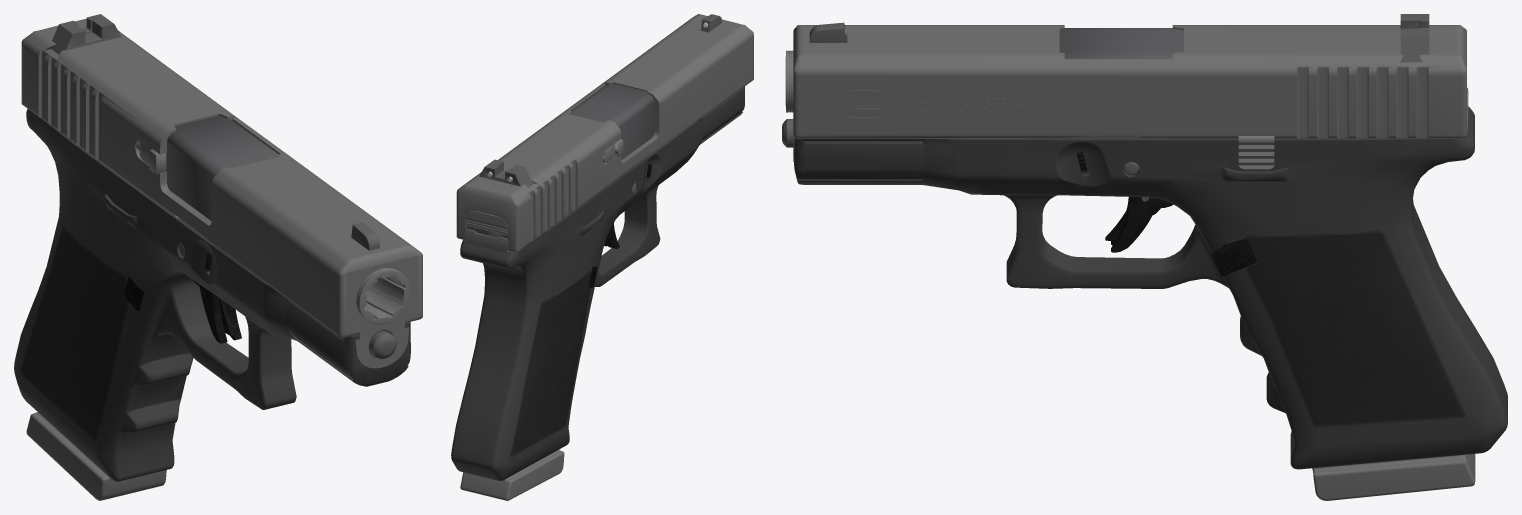
The model's file is Glock_Crime.gltf.
The picture shows the model from 3 angles, left to right: view 1: azimuth 30°, elevation 25°; view 2: azimuth 150°, elevation 25°; view 3: azimuth 270°, elevation 25°; orthographic projection. The views are drawn at different scales.
Parts seen in each view (by area): view 1: Cube.021, Cube.022, Cube.029, Cube.023, Cutter.034, Glock 17 - Glock rear sight-1.001, Cube.024, Cutter.035, Cube.015, Glock 17 - Glock front sight-1.001; view 2: Cube.021, Cube.022, Cube.029, Cube.023, Glock 17 - Glock rear sight-1.001, Cube.019; view 3: Cube.021, Cube.022, Cube.023, Cube.029, Cube.024, Glock 17 - Glock rear sight-1.001, Cube.027, Cube.033.
Boxes of the visible parts, x1,y1,x2,y2 form: Cube.021: (14, 109, 410, 481); Cube.022: (21, 18, 422, 368); Cube.029: (166, 115, 278, 220); Cube.023: (26, 412, 166, 500); Cutter.034: (356, 268, 410, 324); Glock 17 - Glock rear sight-1.001: (52, 14, 121, 54); Cube.024: (193, 280, 241, 343); Cutter.035: (369, 331, 396, 358); Cube.015: (139, 141, 166, 174); Glock 17 - Glock front sight-1.001: (351, 222, 379, 250); Cube.021: (451, 86, 744, 480); Cube.022: (456, 14, 753, 252); Cube.029: (570, 83, 654, 159); Cube.023: (460, 449, 564, 500); Glock 17 - Glock rear sight-1.001: (479, 159, 533, 187); Cube.019: (466, 211, 507, 239); Cube.021: (794, 106, 1507, 469); Cube.022: (793, 25, 1466, 161); Cube.023: (1312, 454, 1475, 500); Cube.029: (1059, 28, 1183, 58); Cube.024: (1111, 196, 1173, 252); Glock 17 - Glock rear sight-1.001: (1400, 14, 1429, 62); Cube.027: (1238, 136, 1274, 169); Cube.033: (1211, 238, 1257, 276).
Size of the model in its own units: 1.21 by 5.58 by 7.98.
9 materials, 6 textured.
